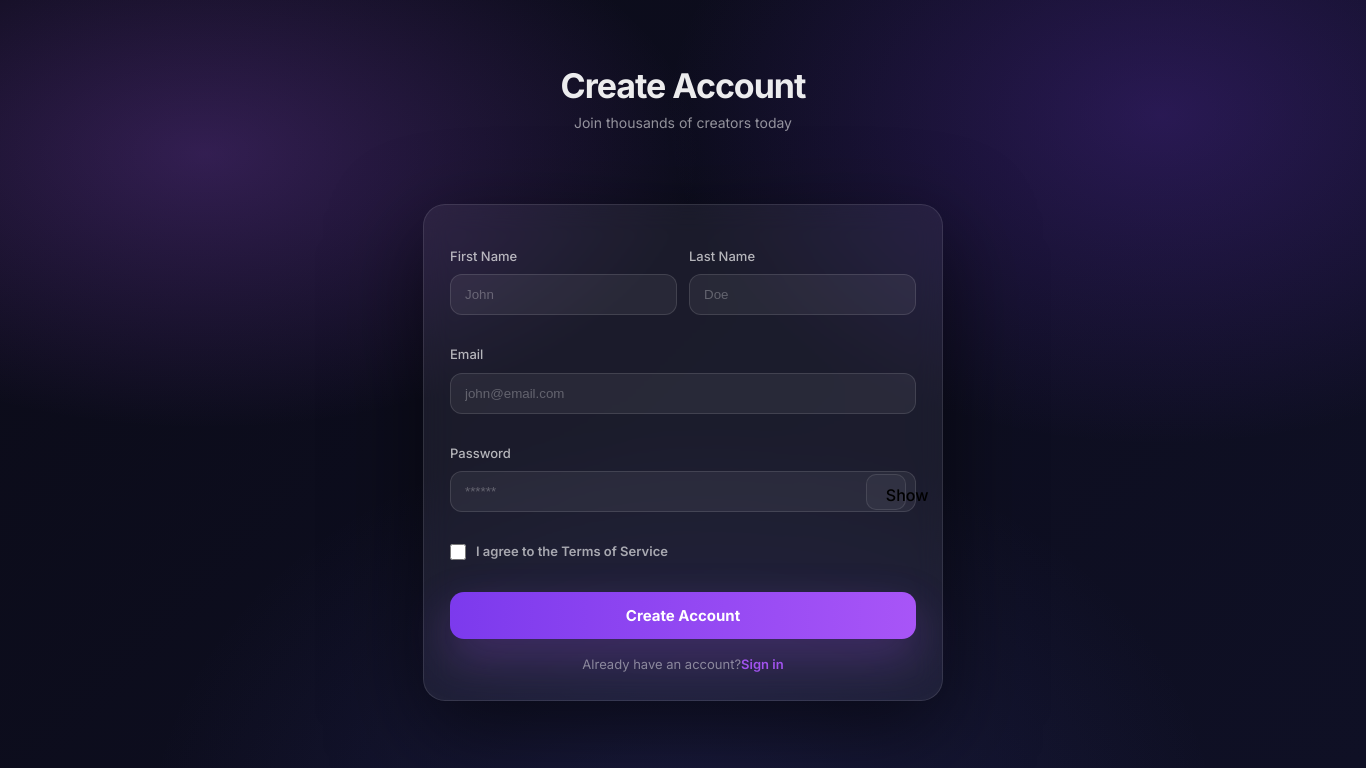
Test: Signup › shows validation when required fields are missing
The image size is (1366, 768).
Step 1. Click the button "Create Account" → click(683, 616), box [450,592,916,639]
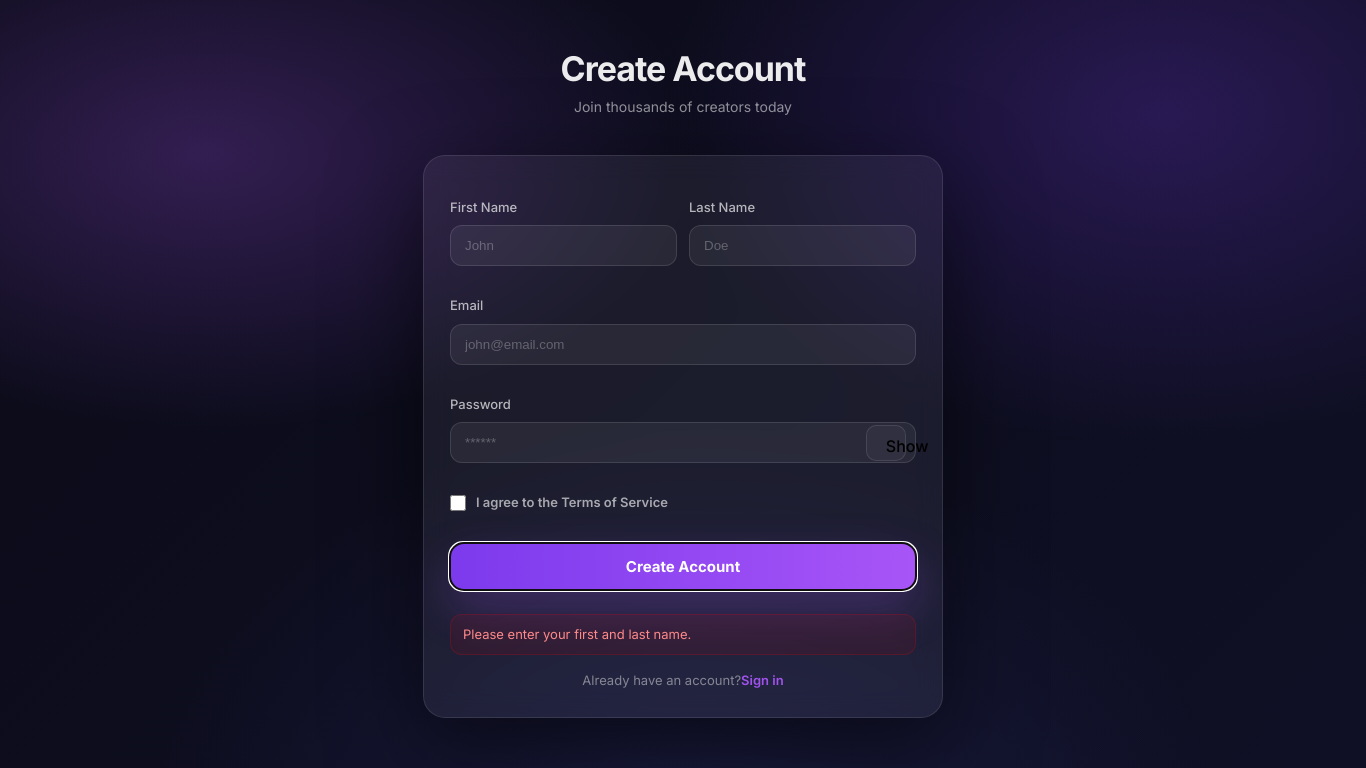
Expected: the text "Please enter your first and last name." is shown, [450,614,916,655]
